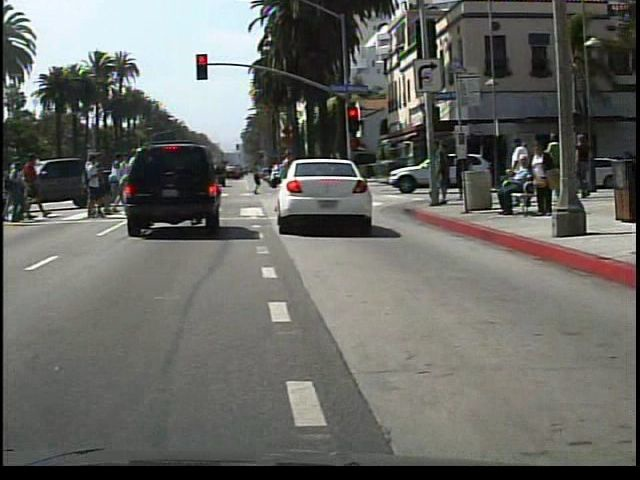person: (531, 140, 564, 222), (499, 154, 540, 215), (269, 147, 302, 215)
